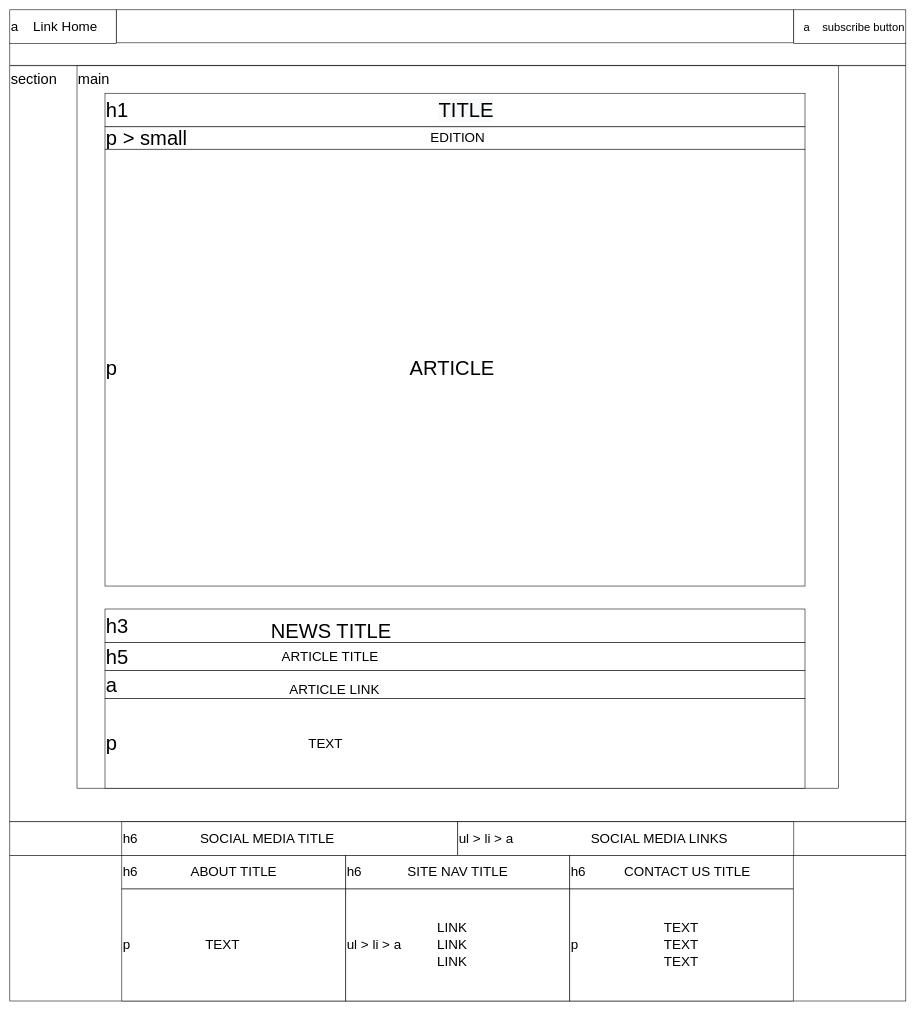
The diagram is 916 pixels wide and 1011 high, and some of its shapes have lost their labels. Each missing label, with the centre of its shape:
"nav > ul > li" goes at [455,26].
"nav> ol > li BREADCRUMBS BAR" goes at [457,53].
